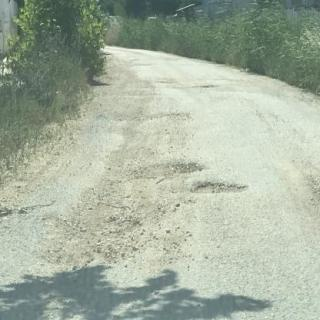pothole: (188, 182, 249, 196), (172, 162, 208, 175)
